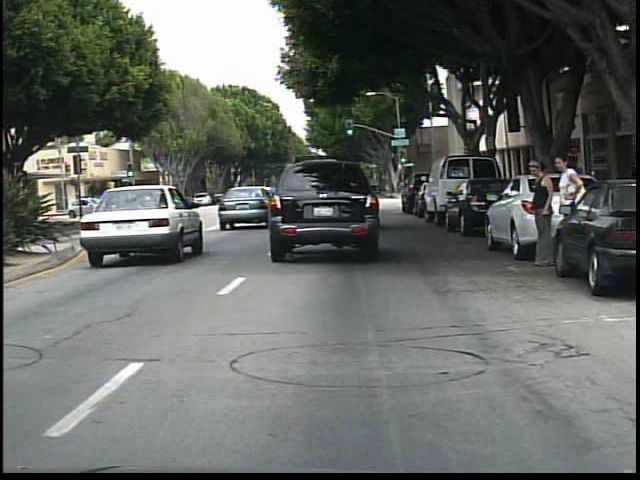person: (551, 150, 587, 265), (525, 159, 555, 272)
